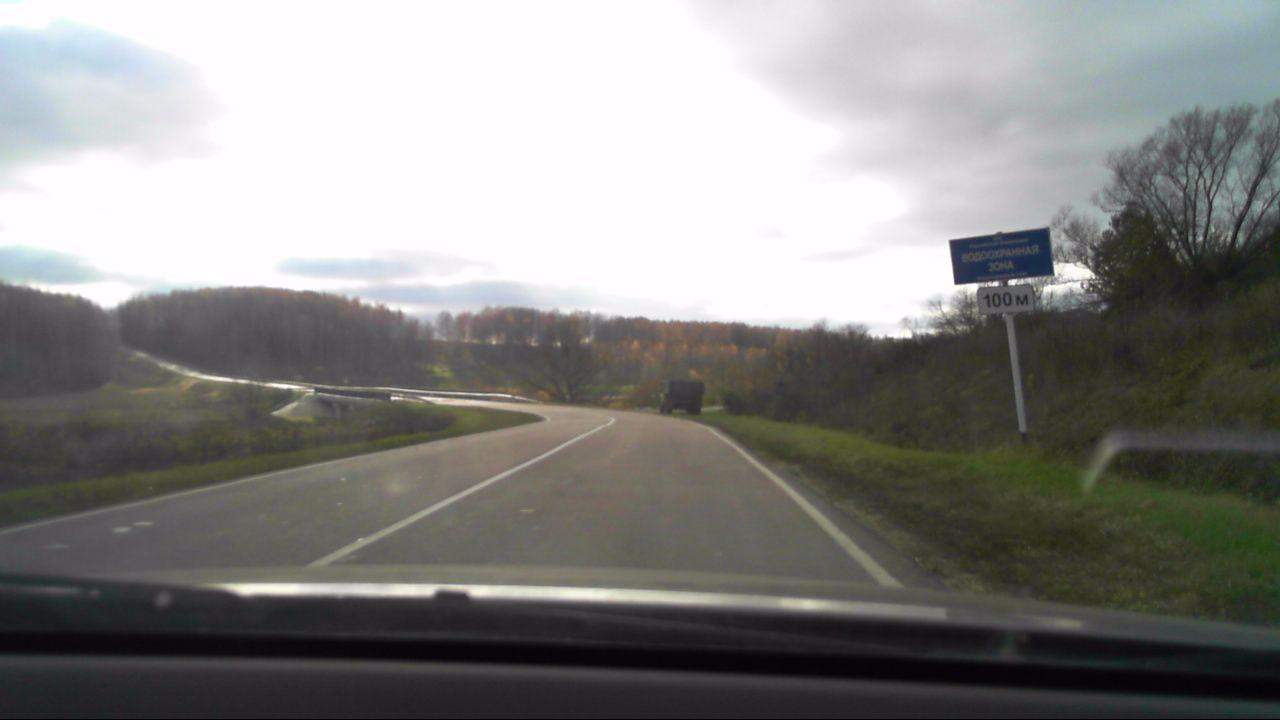8_1_1: (980, 287, 1032, 312)
